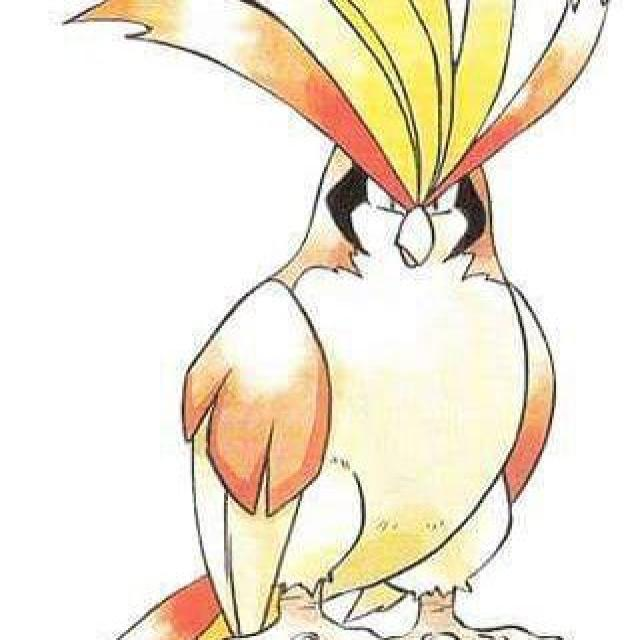Pidgeot: (187, 9, 562, 640)
